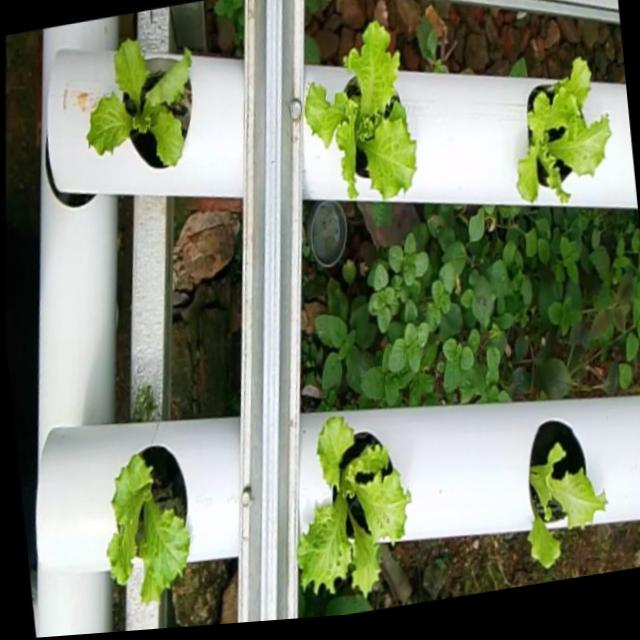Baby: (297, 418, 409, 606), (303, 25, 414, 203), (85, 43, 191, 174), (514, 58, 608, 204), (107, 449, 189, 607), (527, 419, 605, 566)
